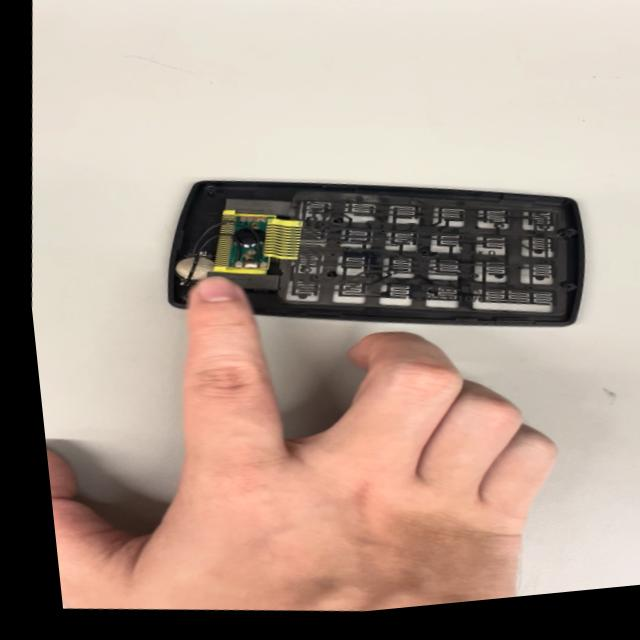front_panel: (142, 127, 610, 377)
